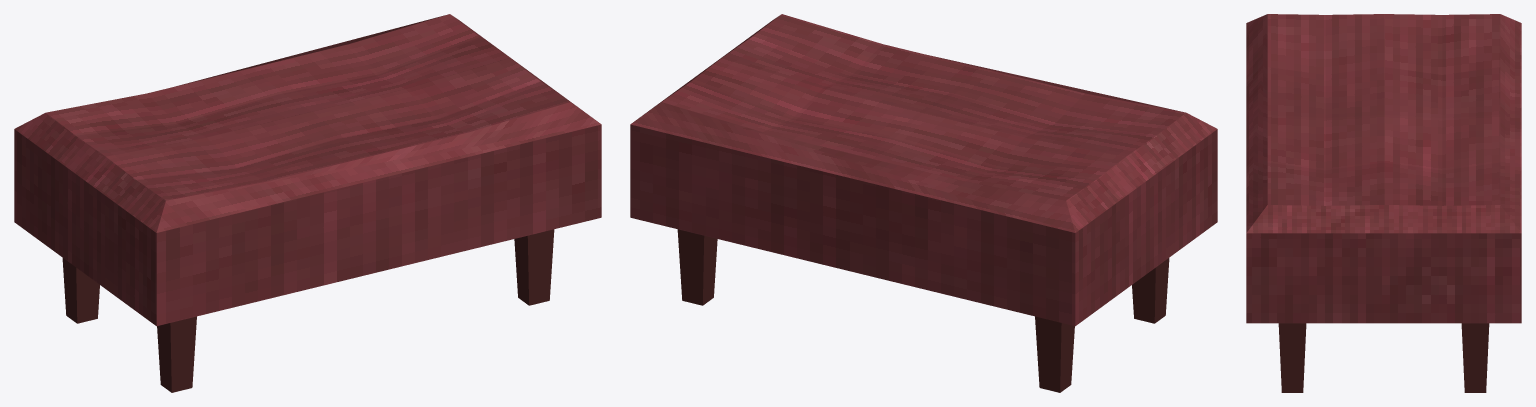
The model's file is Ottoman(true).glb.
3 views of the same model, side by side, from view 1: azimuth 30°, elevation 25°; view 2: azimuth 150°, elevation 25°; view 3: azimuth 270°, elevation 25° (orthographic). The views are drawn at different scales.
Visible parts, largest first — view 1: Main, Cube; view 2: Main, Cube; view 3: Main, Cube.
Boxes of the visible parts, <box> form: Main: <box>14,14,601,326</box>; Cube: <box>62,229,554,392</box>; Main: <box>630,14,1217,326</box>; Cube: <box>677,229,1169,392</box>; Main: <box>1246,14,1521,323</box>; Cube: <box>1278,323,1489,392</box>.
Size of the model in its own units: 1.38 by 0.5935 by 0.7619.
Materials: 2 (1 with a texture image).
